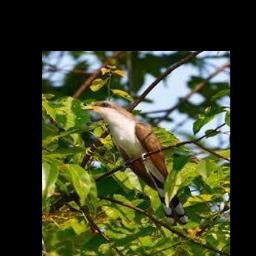Cuckoo: (81, 100, 188, 226)
